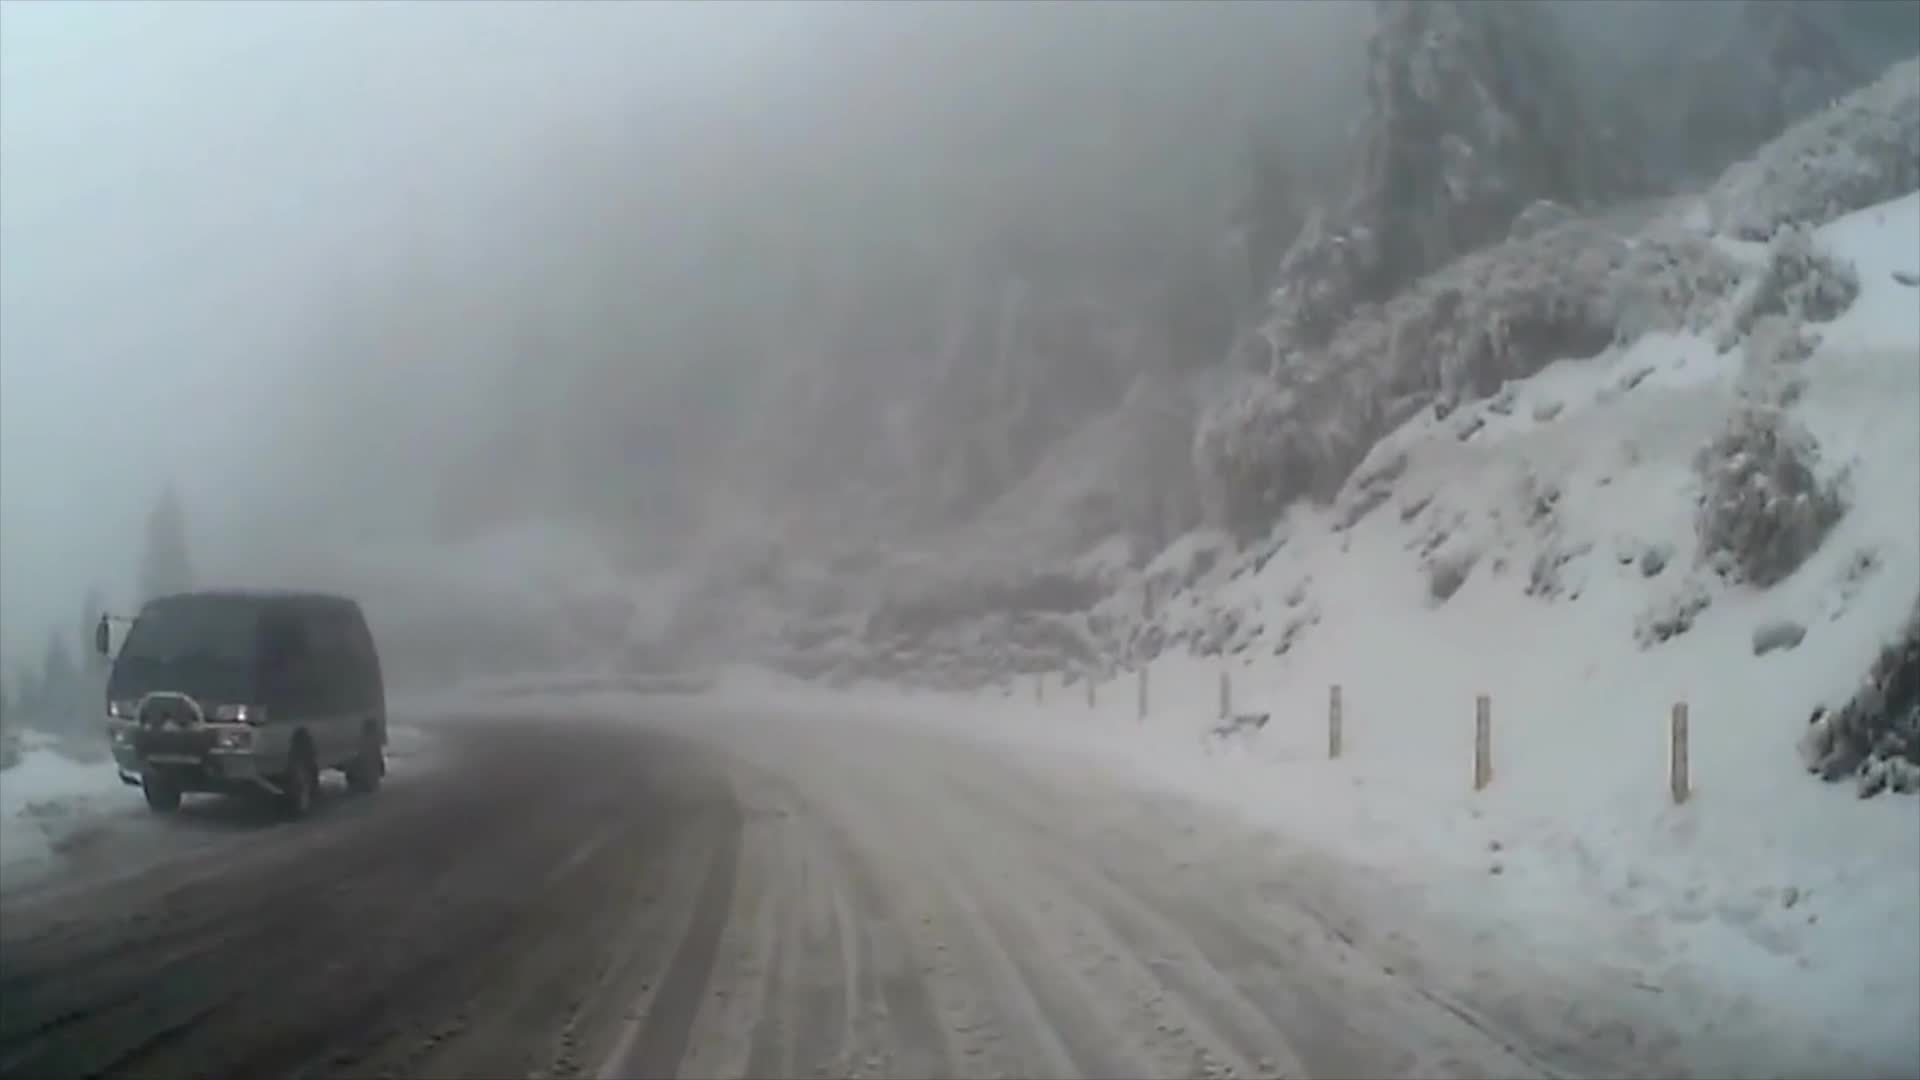vehicle: (91, 588, 388, 822)
